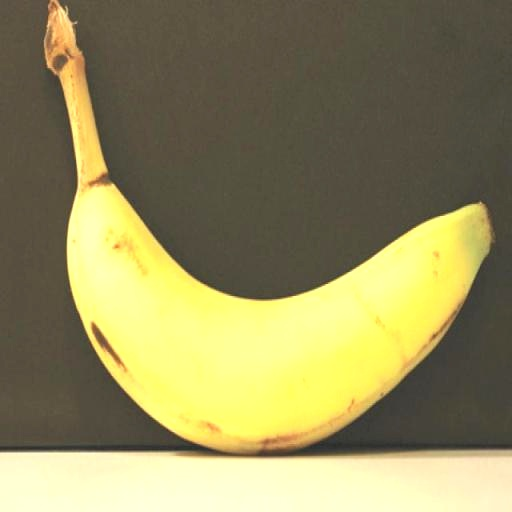fruit: (44, 1, 491, 453)
